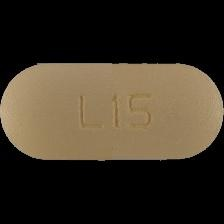68180-767: (0, 0, 224, 224)
